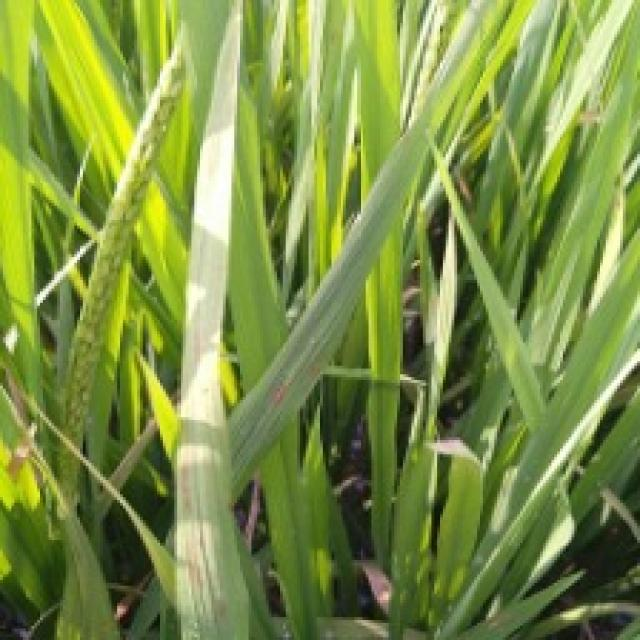Rice___Brown_Spot: (230, 1, 490, 500)
